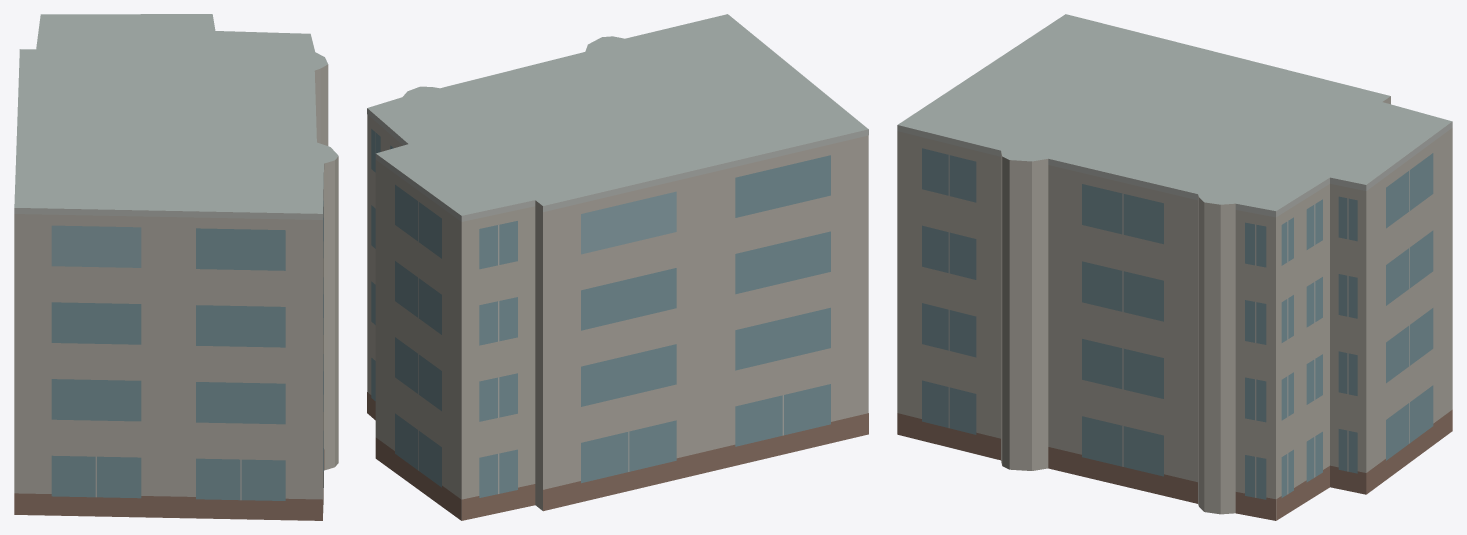
The model's file is survey-upis-33045456.glb.
The picture shows the model from 3 angles, left to right: view 1: azimuth 30°, elevation 25°; view 2: azimuth 150°, elevation 25°; view 3: azimuth 270°, elevation 25°; orthographic projection.
Parts seen in each view (by area): view 1: survey-upis-33045456.tmp; view 2: survey-upis-33045456.tmp; view 3: survey-upis-33045456.tmp.
Part boxes in pixels (bbox=[...]): survey-upis-33045456.tmp: bbox=[14, 14, 338, 520]; survey-upis-33045456.tmp: bbox=[367, 14, 868, 520]; survey-upis-33045456.tmp: bbox=[897, 14, 1452, 520].
Size of the model in its own units: 16.67 by 12.2 by 19.83.
